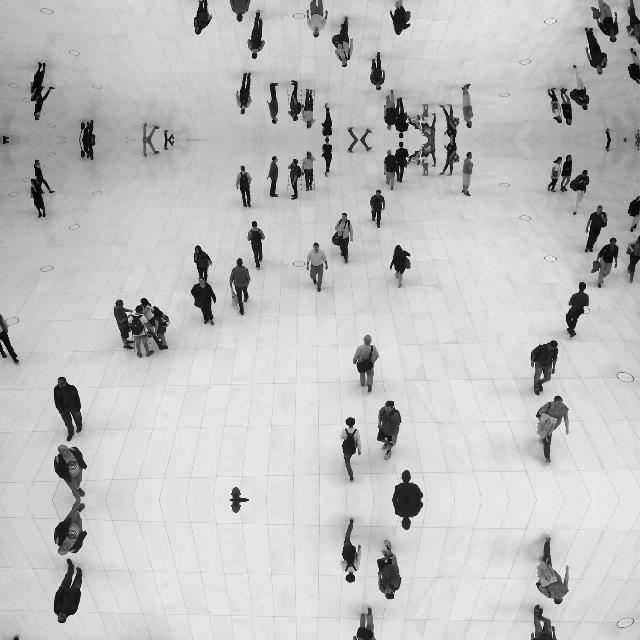person: (535, 395, 569, 463), (535, 537, 569, 605), (53, 377, 83, 443), (53, 557, 83, 623), (54, 444, 88, 500), (54, 500, 88, 556), (530, 340, 558, 396), (376, 400, 402, 460), (376, 540, 402, 600), (353, 335, 379, 393), (340, 416, 362, 482), (340, 518, 362, 584), (591, 238, 619, 288), (190, 276, 218, 326), (129, 306, 155, 358), (565, 282, 589, 338), (229, 258, 251, 316), (591, 0, 619, 42), (584, 205, 608, 253), (584, 27, 608, 75), (332, 212, 354, 264), (332, 16, 354, 68), (114, 298, 136, 349), (306, 242, 328, 292), (529, 604, 558, 640), (1, 312, 20, 363), (389, 244, 411, 288), (392, 470, 424, 500), (392, 500, 424, 530), (570, 169, 590, 215), (570, 65, 590, 111), (247, 220, 265, 270), (247, 10, 265, 60), (150, 306, 170, 350), (305, 0, 328, 38), (353, 607, 379, 640), (389, 0, 411, 36), (33, 159, 55, 193), (33, 87, 55, 121), (235, 72, 252, 115), (139, 297, 157, 337), (235, 166, 252, 208), (626, 234, 640, 284), (194, 244, 212, 282), (300, 150, 316, 192), (394, 141, 410, 183), (394, 97, 410, 139), (193, 0, 212, 35), (30, 61, 46, 102), (300, 89, 316, 130), (439, 140, 457, 176), (439, 104, 457, 140), (30, 178, 46, 218), (626, 0, 640, 45), (370, 51, 386, 90), (419, 140, 436, 176), (419, 104, 436, 140), (547, 156, 563, 194), (370, 190, 386, 228), (547, 86, 563, 124), (266, 156, 280, 198), (288, 159, 302, 201), (266, 82, 280, 124), (288, 79, 302, 121), (384, 150, 398, 190), (384, 90, 398, 130), (462, 152, 474, 196), (462, 84, 474, 128), (229, 0, 251, 22), (321, 140, 334, 177), (627, 195, 640, 232), (627, 47, 640, 84), (321, 104, 334, 140), (560, 154, 572, 192), (560, 88, 572, 126), (348, 140, 372, 154), (348, 126, 372, 140), (80, 140, 96, 160), (80, 120, 96, 140), (142, 140, 160, 156), (142, 124, 160, 140), (228, 486, 250, 499), (228, 501, 250, 514), (163, 140, 174, 150), (163, 130, 174, 140), (605, 140, 613, 152), (605, 128, 613, 140), (190, 0, 217, 3), (0, 636, 19, 640)
